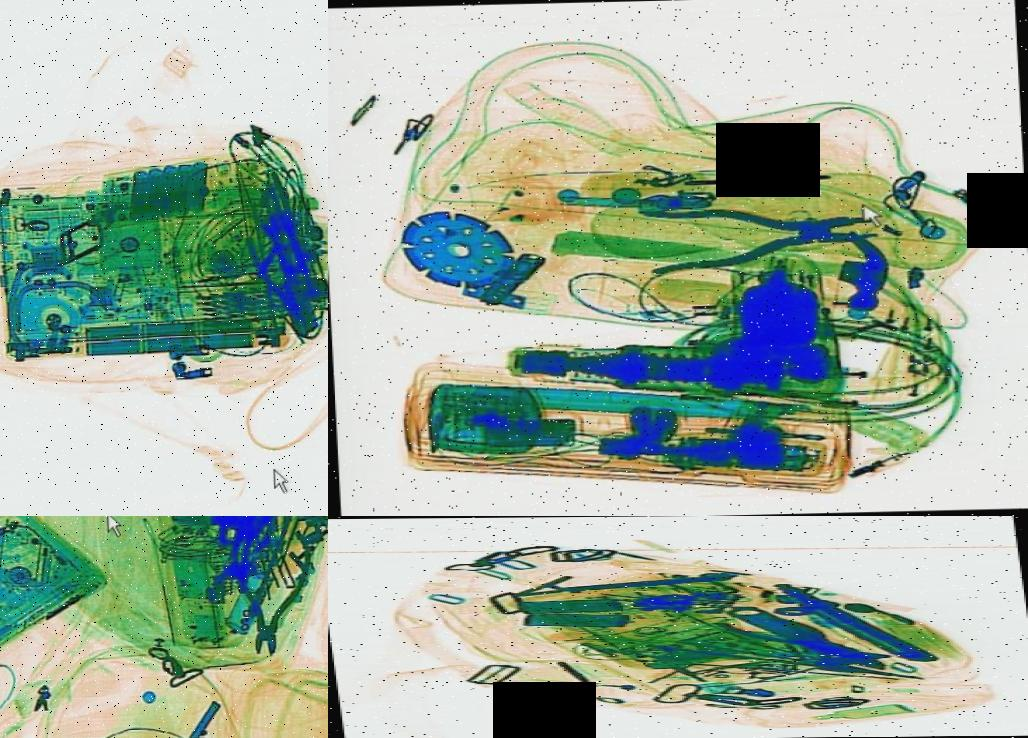Pliers: (636, 194, 880, 272), (636, 633, 925, 685), (222, 526, 316, 658), (702, 608, 882, 663), (238, 214, 316, 332)
Wrench: (701, 602, 895, 678)
